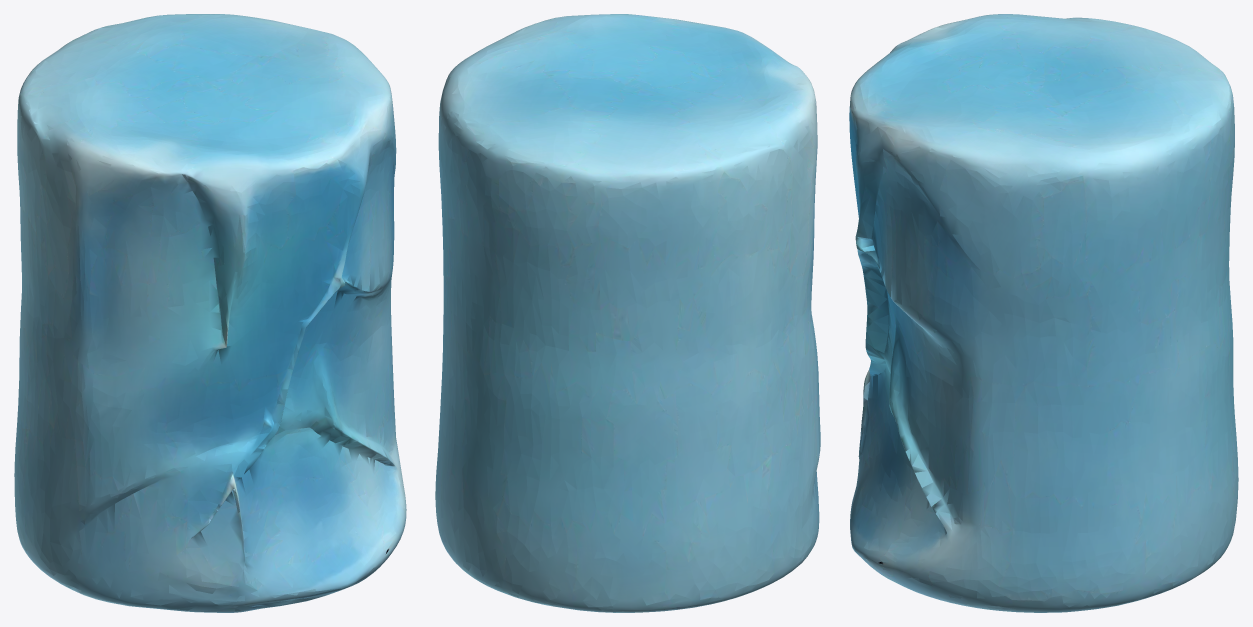
File: buz_silindir.glb
3 renders of one model, left to right at view 1: azimuth 30°, elevation 25°; view 2: azimuth 150°, elevation 25°; view 3: azimuth 270°, elevation 25°, orthographic.
Visible parts, largest first — view 1: tripo_node_19aa47c8-c28c-4271-a1c7-fc992d710176; view 2: tripo_node_19aa47c8-c28c-4271-a1c7-fc992d710176; view 3: tripo_node_19aa47c8-c28c-4271-a1c7-fc992d710176.
Boxes of the visible parts, <box> form: tripo_node_19aa47c8-c28c-4271-a1c7-fc992d710176: <box>14,14,406,612</box>; tripo_node_19aa47c8-c28c-4271-a1c7-fc992d710176: <box>435,14,820,612</box>; tripo_node_19aa47c8-c28c-4271-a1c7-fc992d710176: <box>849,14,1238,612</box>.
Bounding box in the file's own units: 0.7402 × 0.98 × 0.7452.
1 material, 1 textured.
